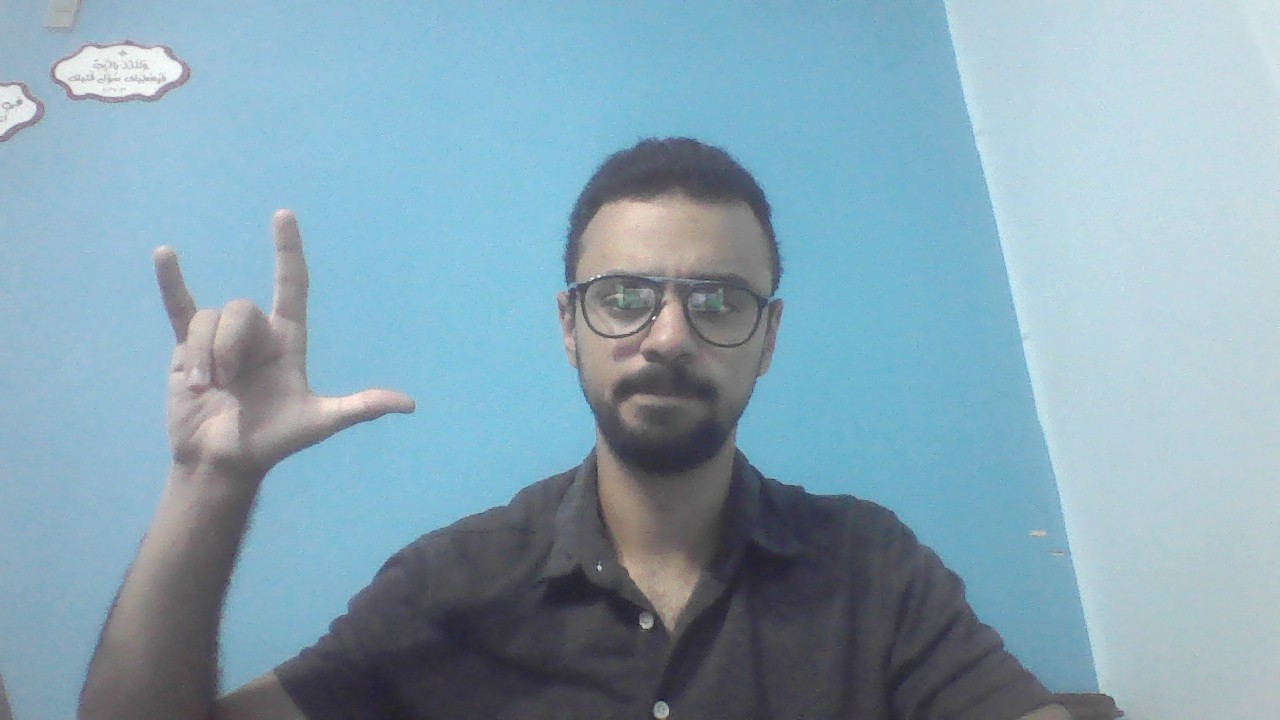love: (141, 207, 420, 462)
